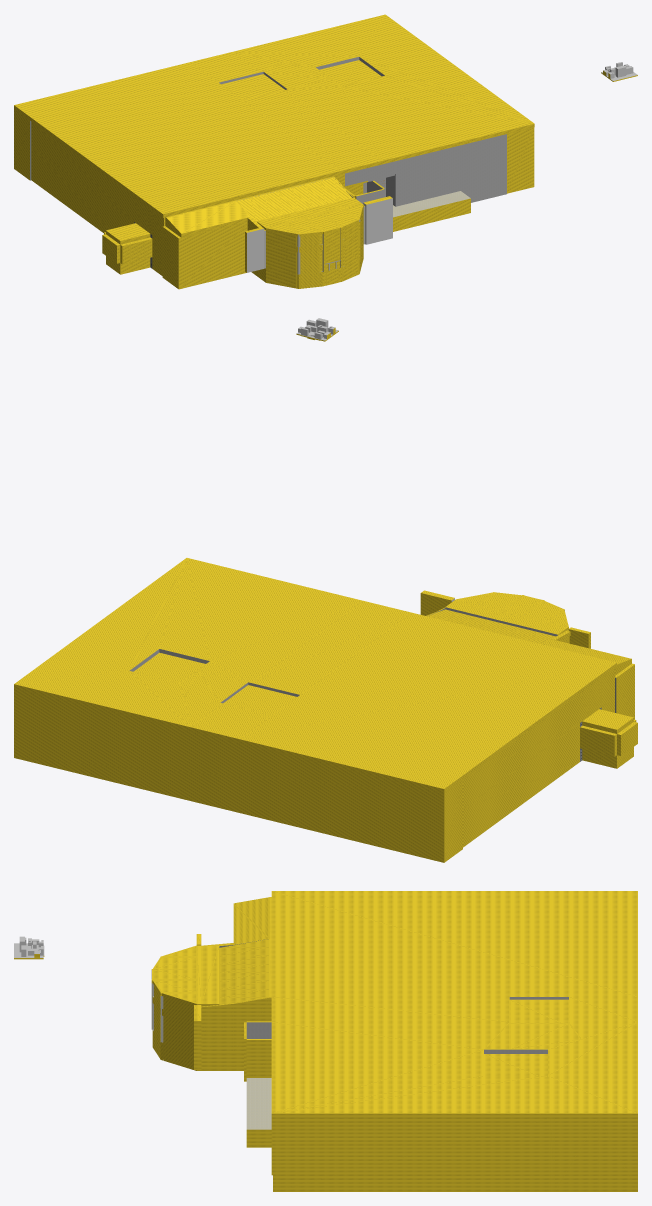
The model's file is waterworld_remastered_solids.obj.
The picture shows the model from 3 angles, top to bottom: view 1: azimuth 30°, elevation 25°; view 2: azimuth 150°, elevation 25°; view 3: azimuth 270°, elevation 25°; orthographic projection. The views are drawn at different scales.
Parts seen in each view (by area): view 1: worldspawn_1537_tools/toolsnodraw, worldspawn_1680_tools/toolsnodraw, worldspawn_114_realworldtextures/newer/1/concrete_1_04, worldspawn_1687_tools/toolsnodraw, worldspawn_44_tools/toolsnodraw, worldspawn_1551_tools/toolsnodraw, worldspawn_1673_tools/toolsnodraw, worldspawn_3146_tools/toolsnodraw, worldspawn_3132_tools/toolsnodraw, worldspawn_1701_tools/toolsnodraw, worldspawn_413_tools/toolsnodraw, worldspawn_1624_tools/toolsnodraw (+17 smaller); view 2: worldspawn_1537_tools/toolsnodraw, worldspawn_2135_tools/toolsnodraw, worldspawn_1680_tools/toolsnodraw, worldspawn_1687_tools/toolsnodraw, worldspawn_1673_tools/toolsnodraw, worldspawn_1551_tools/toolsnodraw, worldspawn_3146_tools/toolsnodraw, worldspawn_3132_tools/toolsnodraw, worldspawn_1701_tools/toolsnodraw, worldspawn_1544_tools/toolsnodraw, worldspawn_2367_tools/toolsnodraw, worldspawn_1694_tools/toolsnodraw (+5 smaller); view 3: worldspawn_1537_tools/toolsnodraw, worldspawn_1624_tools/toolsnodraw, worldspawn_1680_tools/toolsnodraw, worldspawn_1687_tools/toolsnodraw, worldspawn_1551_tools/toolsnodraw, worldspawn_1673_tools/toolsnodraw, worldspawn_1701_tools/toolsnodraw, worldspawn_1631_tools/toolsnodraw, worldspawn_2135_tools/toolsnodraw, worldspawn_1544_tools/toolsnodraw, worldspawn_2367_tools/toolsnodraw, worldspawn_413_tools/toolsnodraw (+24 smaller).
Part boxes in pixels (bbox=[...]): worldspawn_1537_tools/toolsnodraw: bbox=[14, 62, 339, 217]; worldspawn_1680_tools/toolsnodraw: bbox=[342, 75, 534, 164]; worldspawn_114_realworldtextures/newer/1/concrete_1_04: bbox=[395, 134, 506, 206]; worldspawn_1687_tools/toolsnodraw: bbox=[359, 14, 533, 123]; worldspawn_44_tools/toolsnodraw: bbox=[162, 221, 247, 289]; worldspawn_1551_tools/toolsnodraw: bbox=[243, 90, 381, 174]; worldspawn_1673_tools/toolsnodraw: bbox=[233, 14, 384, 67]; worldspawn_3146_tools/toolsnodraw: bbox=[31, 147, 133, 232]; worldspawn_3132_tools/toolsnodraw: bbox=[31, 122, 133, 221]; worldspawn_1701_tools/toolsnodraw: bbox=[285, 79, 381, 160]; worldspawn_413_tools/toolsnodraw: bbox=[165, 200, 250, 237]; worldspawn_1624_tools/toolsnodraw: bbox=[507, 127, 534, 193]; worldspawn_1537_tools/toolsnodraw: bbox=[239, 613, 616, 793]; worldspawn_2135_tools/toolsnodraw: bbox=[14, 688, 462, 862]; worldspawn_1680_tools/toolsnodraw: bbox=[159, 558, 363, 660]; worldspawn_1687_tools/toolsnodraw: bbox=[14, 558, 186, 683]; worldspawn_1673_tools/toolsnodraw: bbox=[14, 671, 190, 731]; worldspawn_1551_tools/toolsnodraw: bbox=[252, 601, 411, 694]; worldspawn_3146_tools/toolsnodraw: bbox=[463, 723, 579, 847]; worldspawn_3132_tools/toolsnodraw: bbox=[463, 694, 579, 808]; worldspawn_1701_tools/toolsnodraw: bbox=[198, 601, 362, 682]; worldspawn_1544_tools/toolsnodraw: bbox=[191, 703, 271, 743]; worldspawn_2367_tools/toolsnodraw: bbox=[180, 670, 247, 702]; worldspawn_1694_tools/toolsnodraw: bbox=[223, 685, 296, 715]; worldspawn_1537_tools/toolsnodraw: bbox=[271, 891, 637, 996]; worldspawn_1624_tools/toolsnodraw: bbox=[273, 1118, 550, 1191]; worldspawn_1680_tools/toolsnodraw: bbox=[271, 1022, 483, 1113]; worldspawn_1687_tools/toolsnodraw: bbox=[271, 1076, 637, 1117]; worldspawn_1551_tools/toolsnodraw: bbox=[271, 997, 509, 1021]; worldspawn_1673_tools/toolsnodraw: bbox=[548, 1022, 637, 1113]; worldspawn_1701_tools/toolsnodraw: bbox=[272, 1022, 509, 1049]; worldspawn_1631_tools/toolsnodraw: bbox=[554, 1118, 598, 1191]; worldspawn_2135_tools/toolsnodraw: bbox=[598, 1118, 637, 1191]; worldspawn_1544_tools/toolsnodraw: bbox=[569, 997, 637, 1021]; worldspawn_2367_tools/toolsnodraw: bbox=[509, 1023, 580, 1049]; worldspawn_413_tools/toolsnodraw: bbox=[233, 897, 271, 944].
Bounding box in the file's own units: 74.24 × 34.86 × 80.96.
